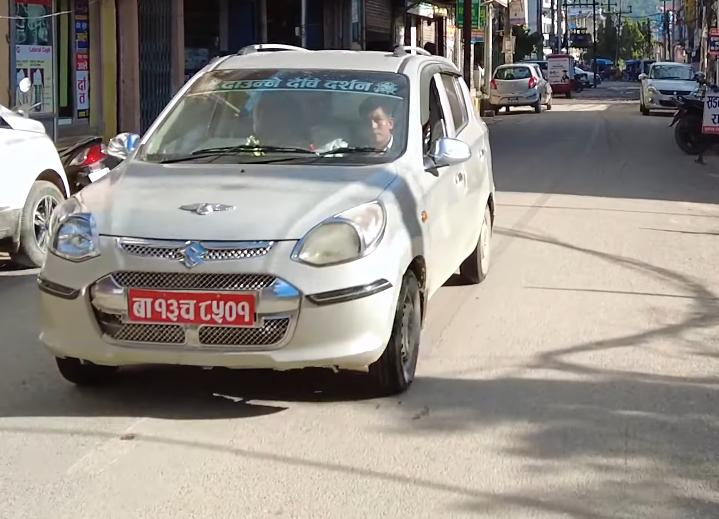car: (26, 34, 496, 400), (485, 59, 558, 118), (636, 58, 705, 117)
